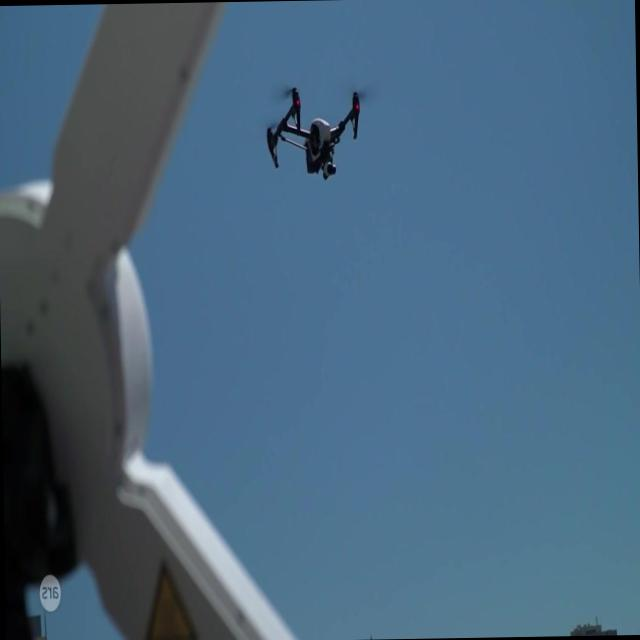drone: (264, 82, 364, 182)
